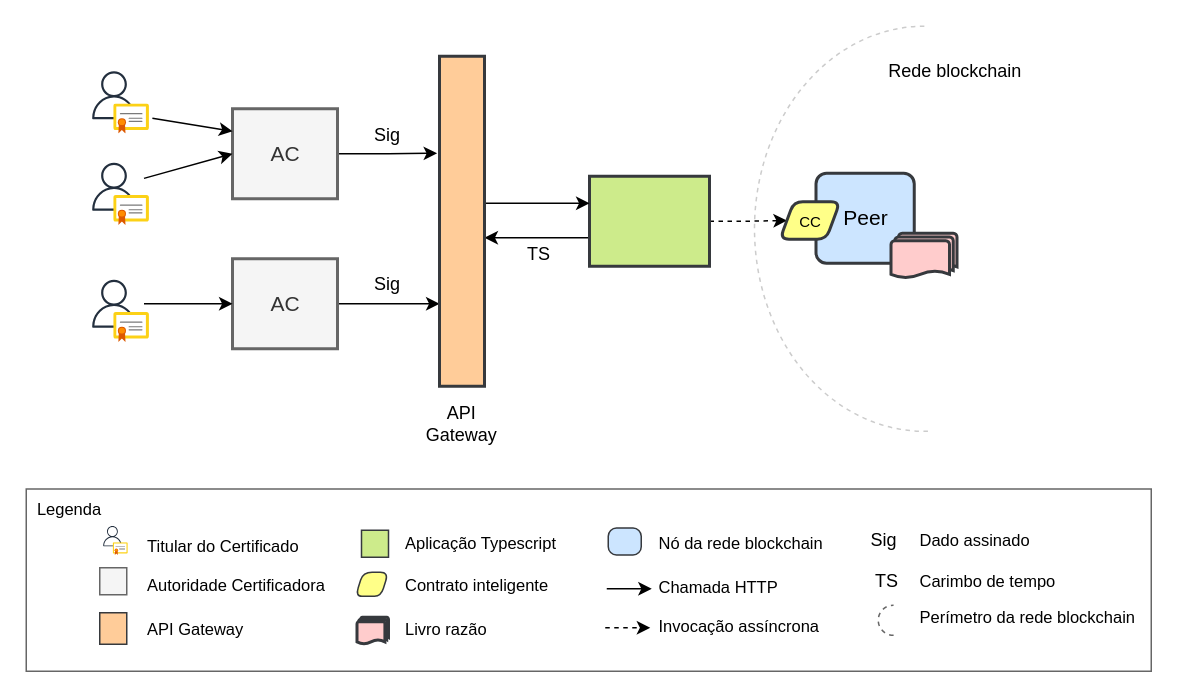
Some shapes in this 1178 by 698 pixel diagram are drawn without their labels. Each missing label, with the centre of its shape:
"Aplicação" goes at (x=648, y=220).
"Ledger" goes at (x=923, y=255).
